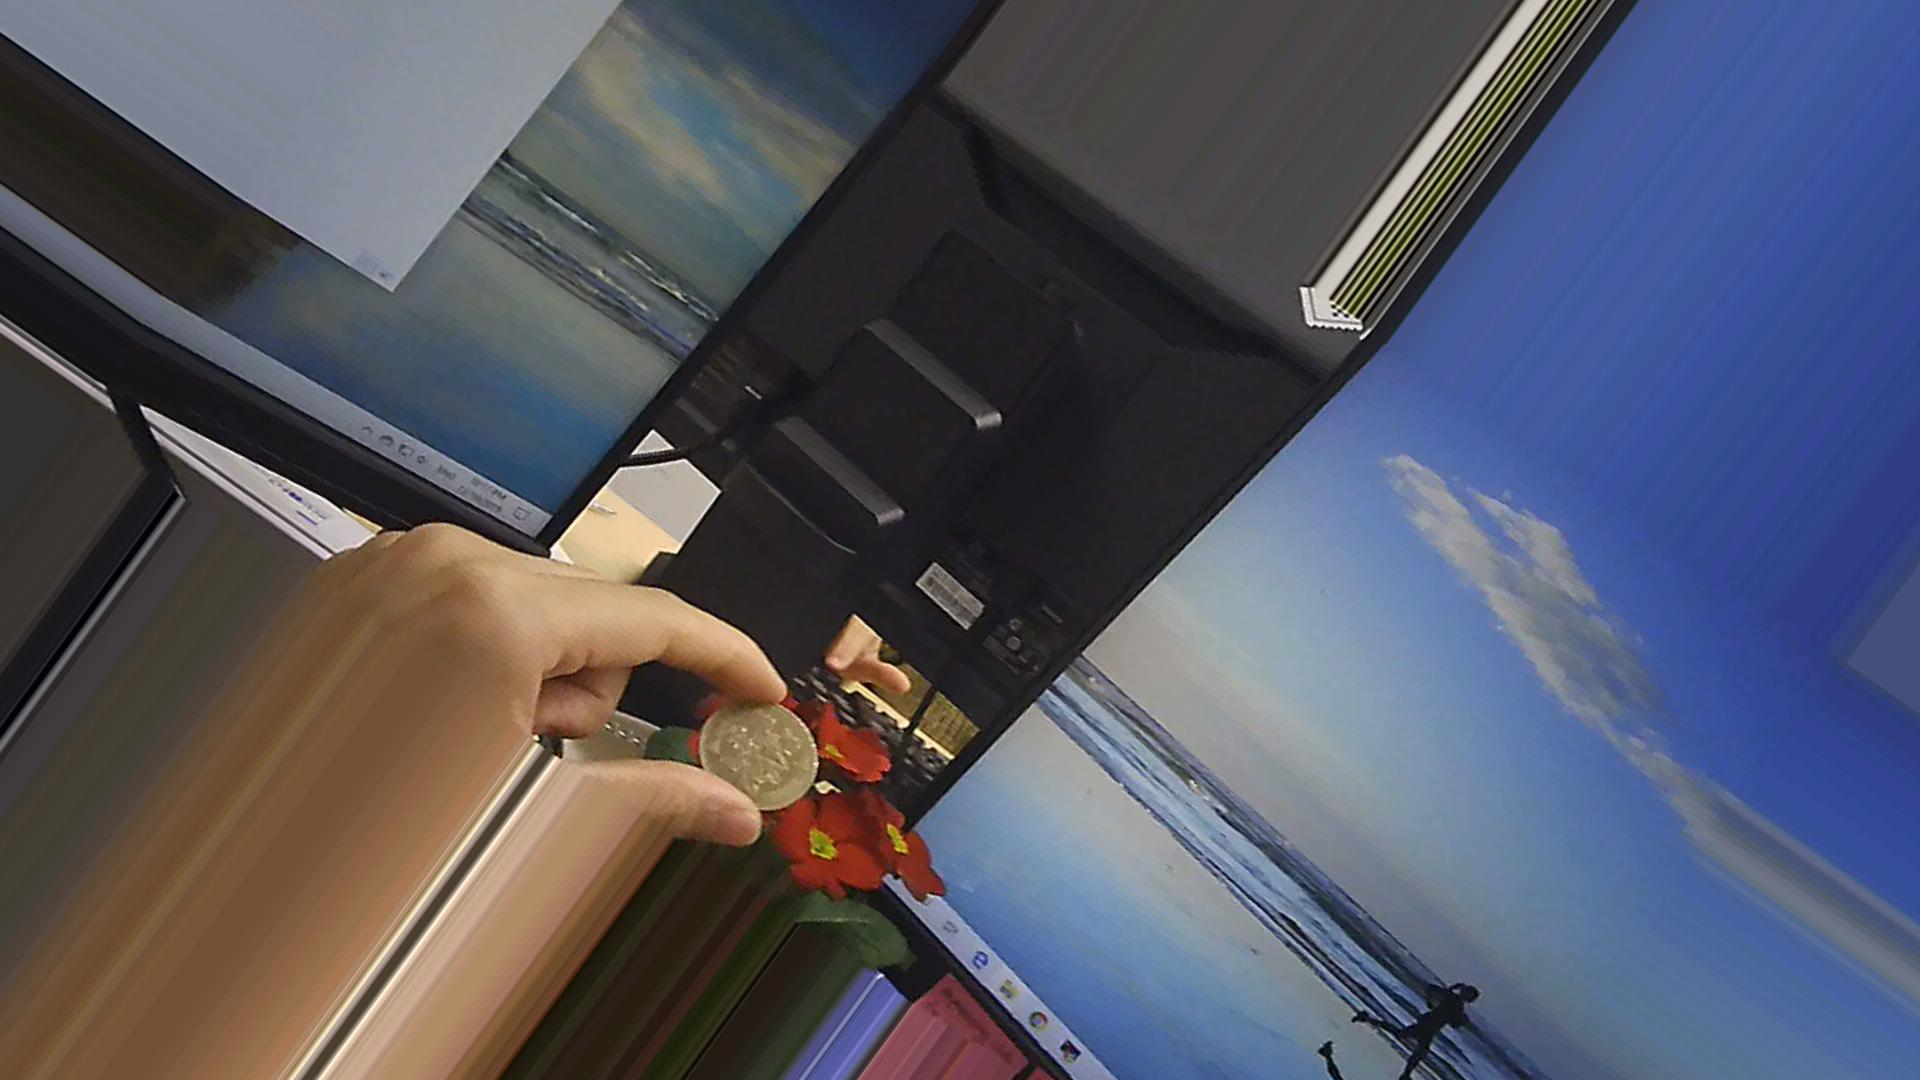500 Yen: (682, 694, 829, 802)
